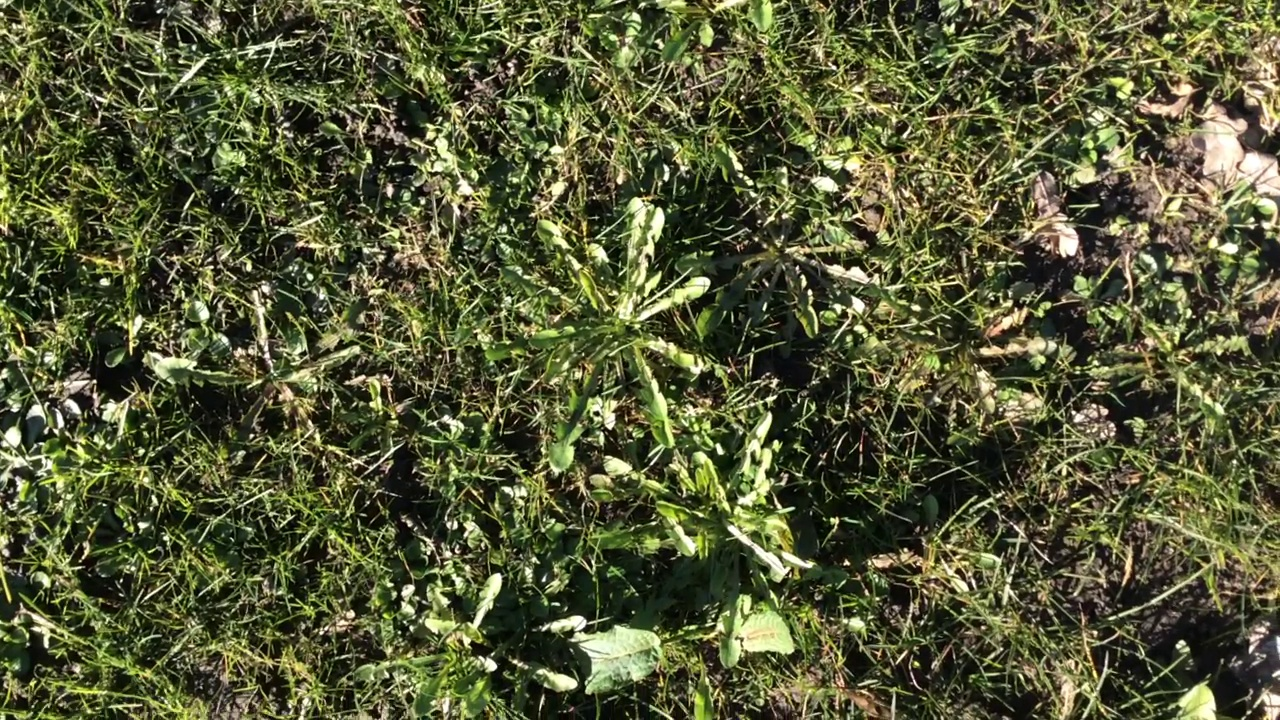rumex: (542, 626, 666, 696), (722, 611, 797, 658)
